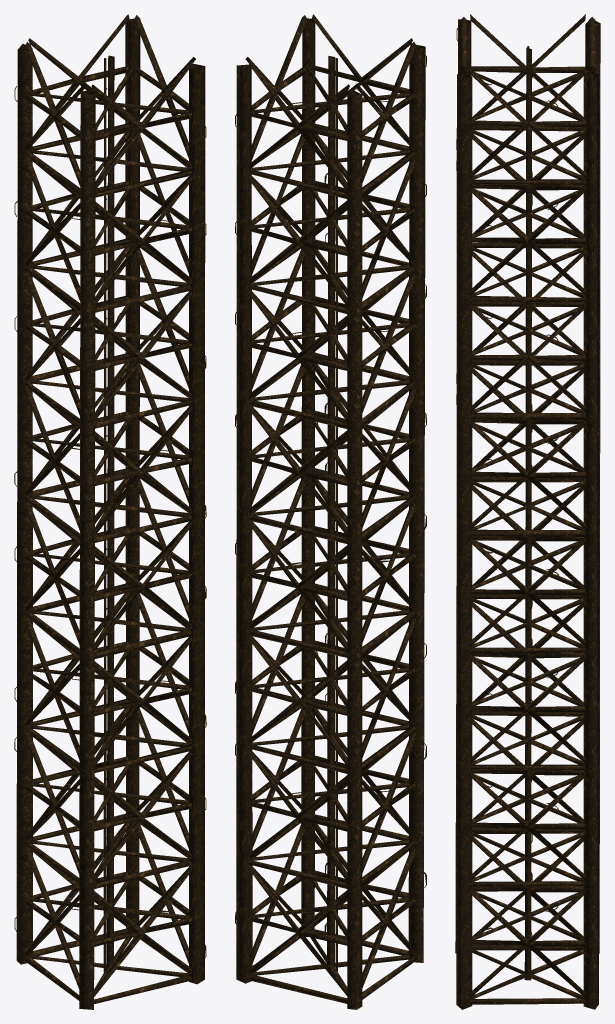
File: OilRigPier00_LOD1.fbx
3 views of the same model, side by side, from view 1: azimuth 30°, elevation 25°; view 2: azimuth 150°, elevation 25°; view 3: azimuth 270°, elevation 25° (orthographic).
Visible parts, largest first — view 1: oilrigpier_low; view 2: oilrigpier_low; view 3: oilrigpier_low.
Boxes of the visible parts, x1,y1,x2,y2 form: oilrigpier_low: [14, 14, 206, 1009]; oilrigpier_low: [235, 14, 426, 1009]; oilrigpier_low: [455, 14, 600, 1009].
Bounding box in the file's own units: 2842 × 20173 × 2827.
